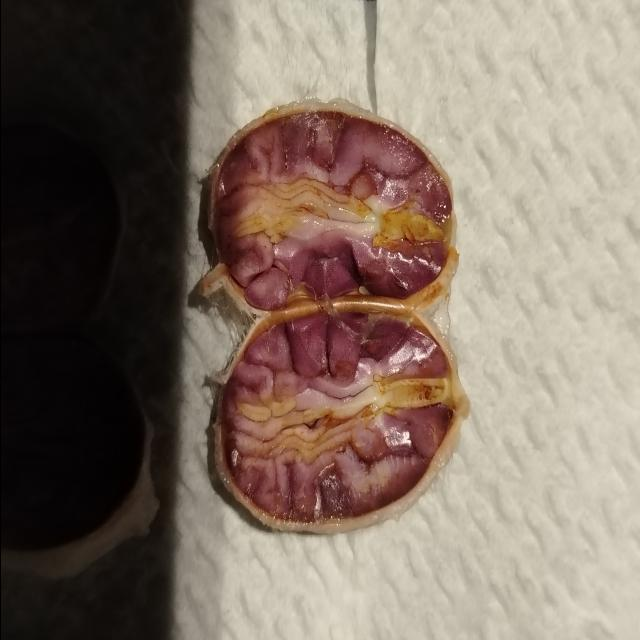Trinitario: (208, 313, 450, 543), (196, 122, 457, 318)
